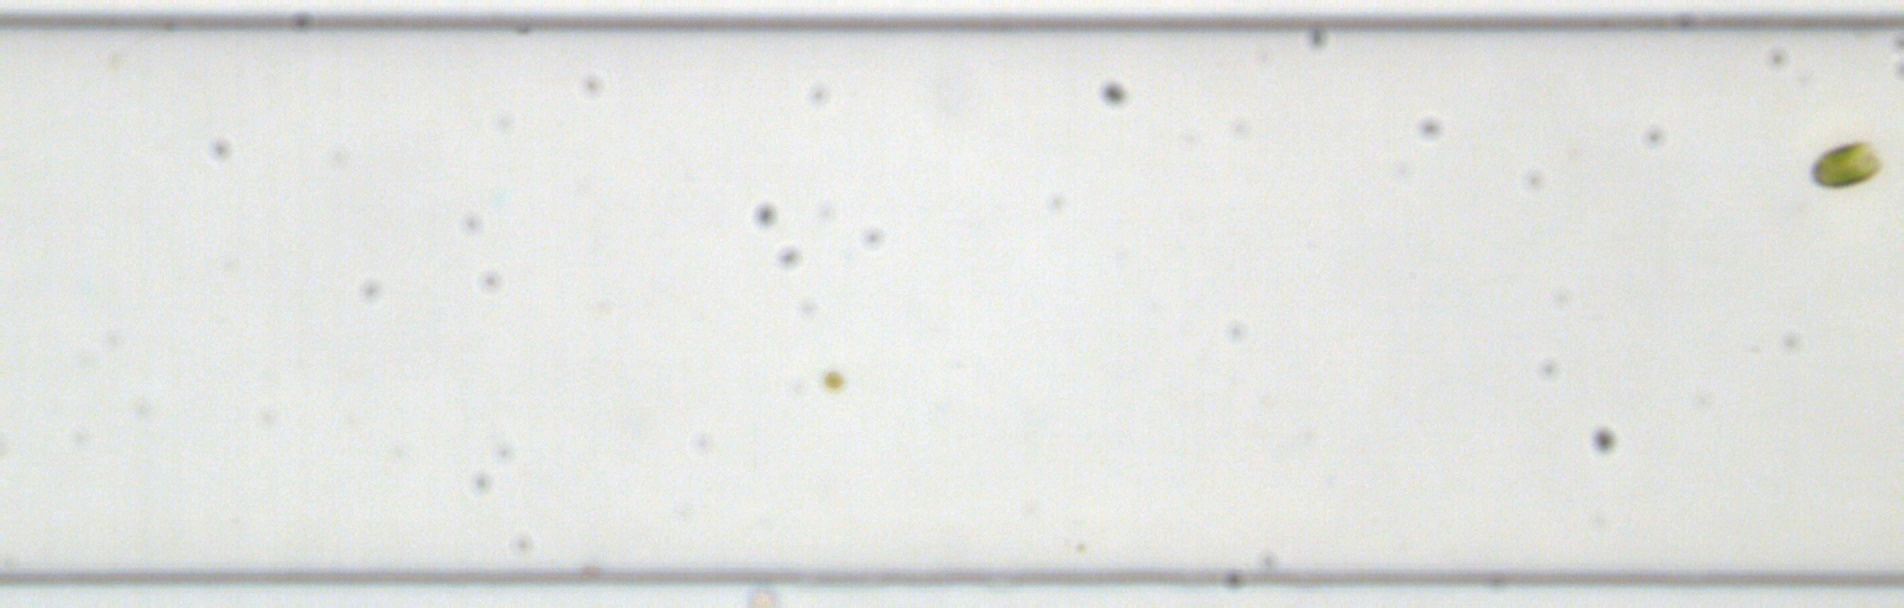Chlorella: (820, 366, 845, 390)
Platymonas: (1809, 135, 1881, 191)
